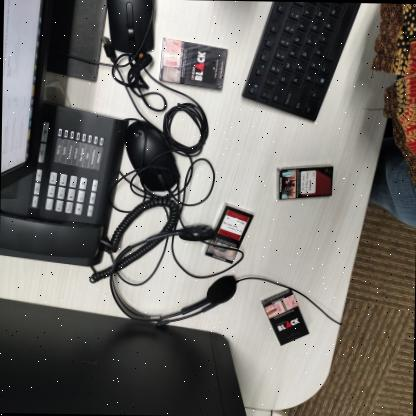bungkus rokok: (156, 32, 238, 100), (252, 280, 314, 352), (270, 150, 343, 206), (201, 201, 255, 267)
